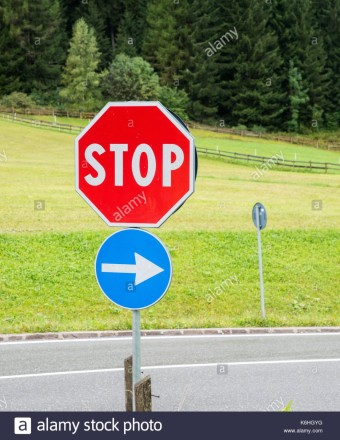SS: (75, 100, 195, 228)
